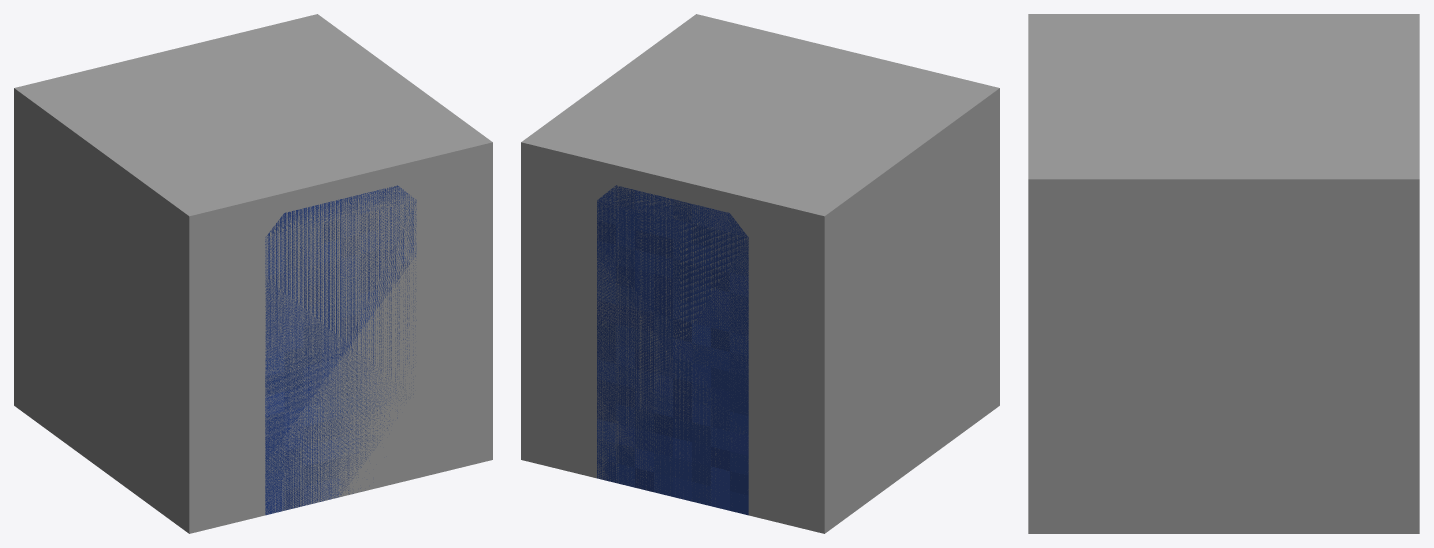
File: maceratorb.obj
3 renders of one model, left to right at view 1: azimuth 30°, elevation 25°; view 2: azimuth 150°, elevation 25°; view 3: azimuth 270°, elevation 25°, orthographic. The views are drawn at different scales.
Visible parts, largest first — view 1: Minecraft_Block_Cube, main; view 2: Minecraft_Block_Cube, main; view 3: Minecraft_Block_Cube.
Boxes of the visible parts, x1,y1,x2,y2 form: Minecraft_Block_Cube: (14, 14, 492, 533); main: (265, 185, 416, 515); Minecraft_Block_Cube: (521, 14, 999, 533); main: (597, 185, 748, 515); Minecraft_Block_Cube: (1028, 14, 1419, 533).
Size of the model in its own units: 1 by 1 by 1.
2 materials, 1 textured.
